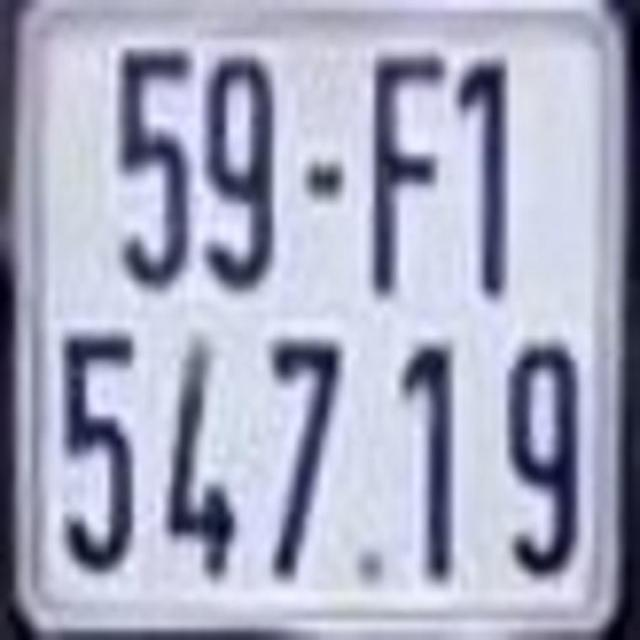1: (399, 347, 458, 583), (459, 56, 512, 299)
4: (166, 337, 237, 585)
5: (61, 320, 140, 578), (113, 32, 194, 275)
7: (268, 326, 344, 590)
9: (510, 338, 580, 581), (207, 55, 276, 291)
F: (371, 49, 445, 298)
